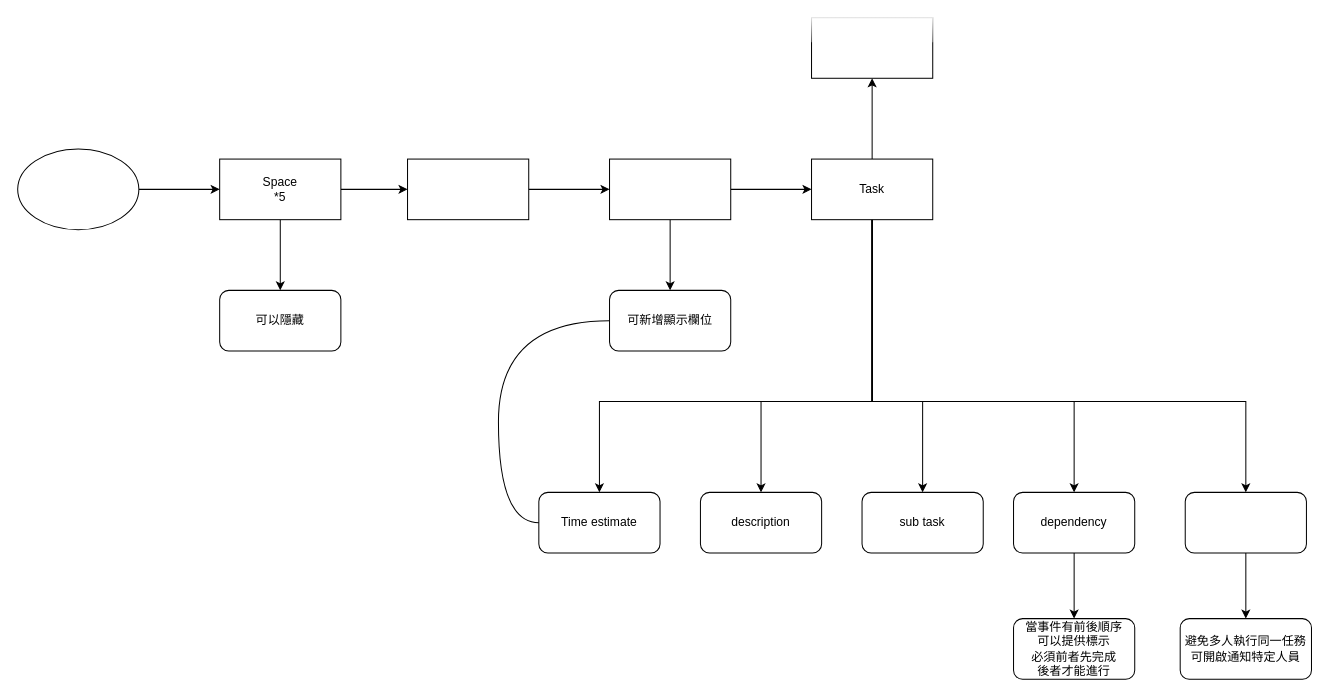
Some shapes in this 1329 by 697 pixel diagram are drawn without their labels. Here are the shapes that lost their labels. From the top down, the box of each, then its label:
(811, 17, 933, 78): 收費 time track
(17, 148, 139, 230): clickup
(407, 158, 529, 220): Floder ∞
(609, 158, 731, 220): List ∞
(1184, 491, 1306, 553): Activity
